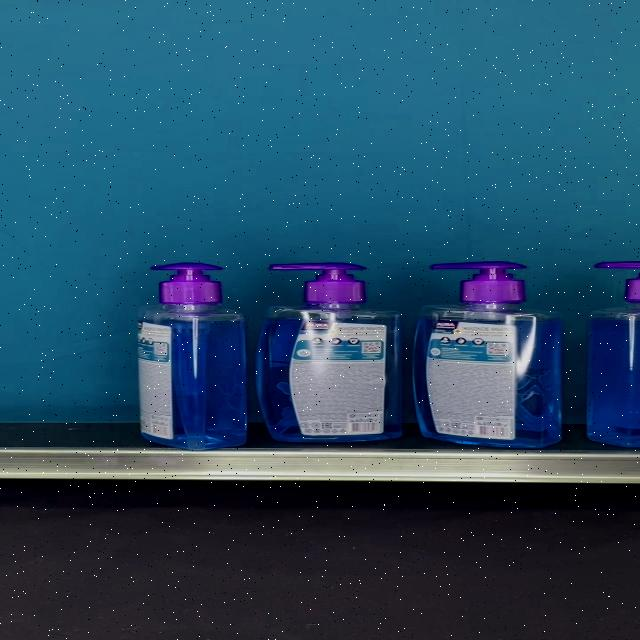Bottle: (411, 262, 562, 448), (258, 262, 402, 444), (136, 262, 248, 450)
Cap: (269, 262, 368, 304), (429, 262, 527, 304), (149, 263, 223, 304)
